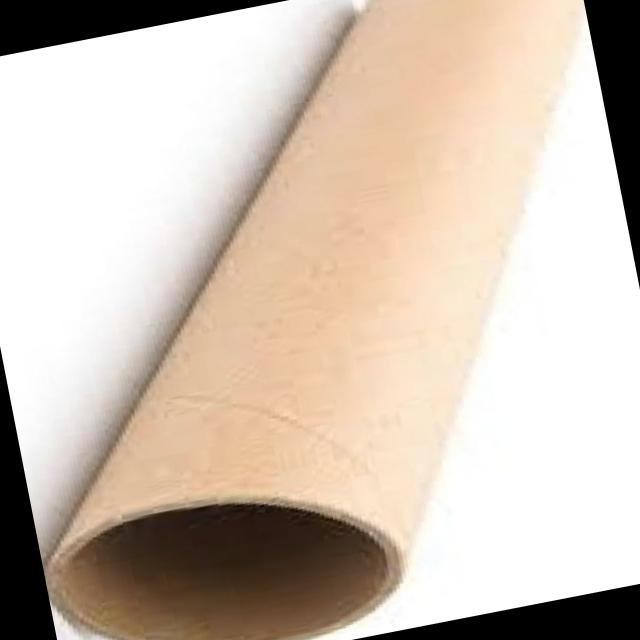cardboard paper: (44, 0, 585, 640)
